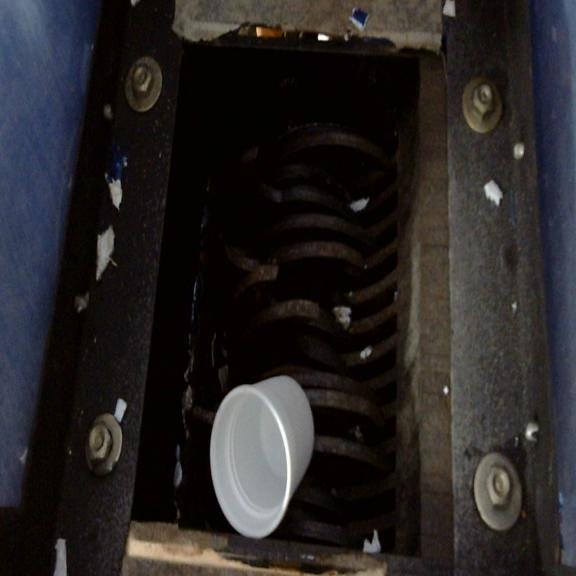Plastik: (195, 346, 326, 548)
